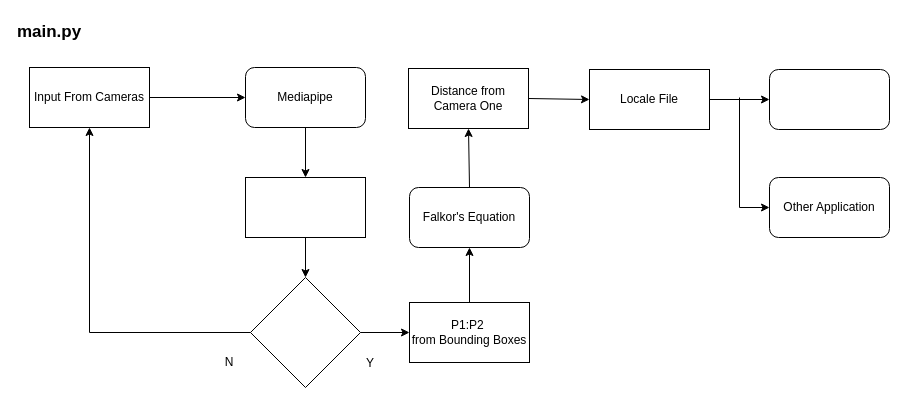
The diagram is 907 pixels wide and 405 high, and some of its shapes have lost their labels. The shapes that lost their labels are listed below. From the top down, each one's centre as x and y in pixels, then its label:
point (829, 99): MQTT
point (305, 207): Object Detection Results
point (305, 332): If an Object is Found AND Object Type is Usable
